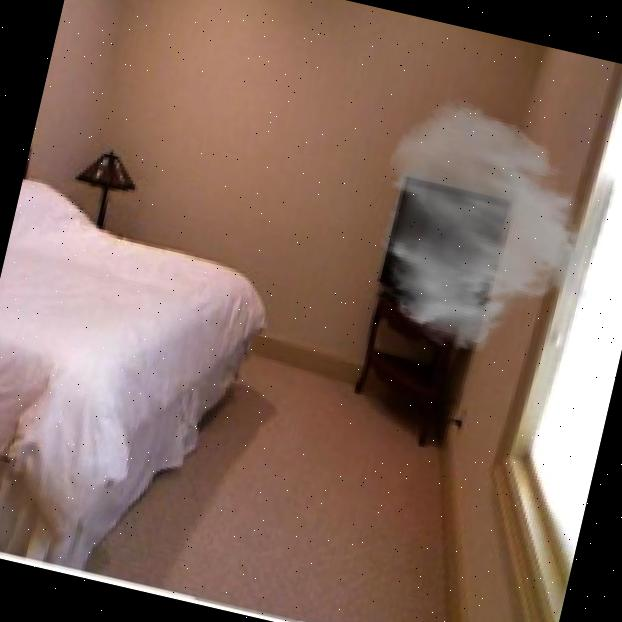smoke: (348, 85, 622, 377)
